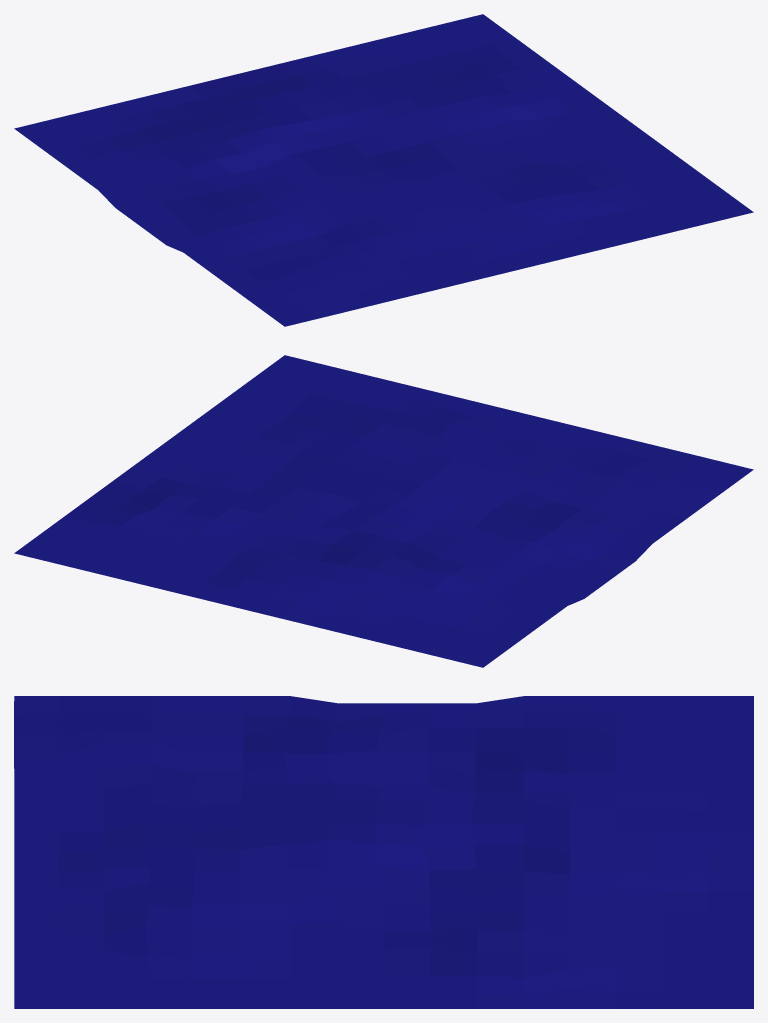
Rendered from Water3.FBX.
The picture shows the model from 3 angles, top to bottom: view 1: azimuth 30°, elevation 25°; view 2: azimuth 150°, elevation 25°; view 3: azimuth 270°, elevation 25°; orthographic projection. The views are drawn at different scales.
Visible parts, largest first — view 1: Terrain.002; view 2: Terrain.002; view 3: Terrain.002.
Part boxes in pixels (left/top/right/bottom): Terrain.002: left=14, top=14, right=753, bottom=326; Terrain.002: left=14, top=355, right=753, bottom=667; Terrain.002: left=14, top=696, right=753, bottom=1008.
Bounding box in the file's own units: 800 × 800 × 27.
